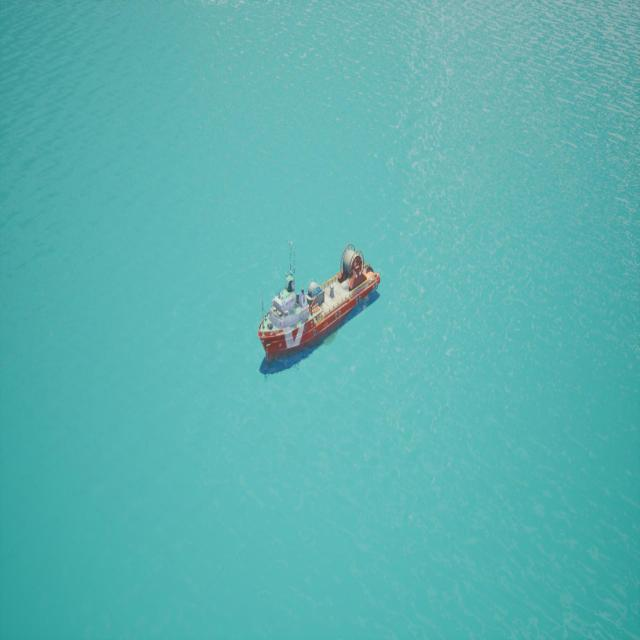tug boat: (258, 245, 383, 376)
